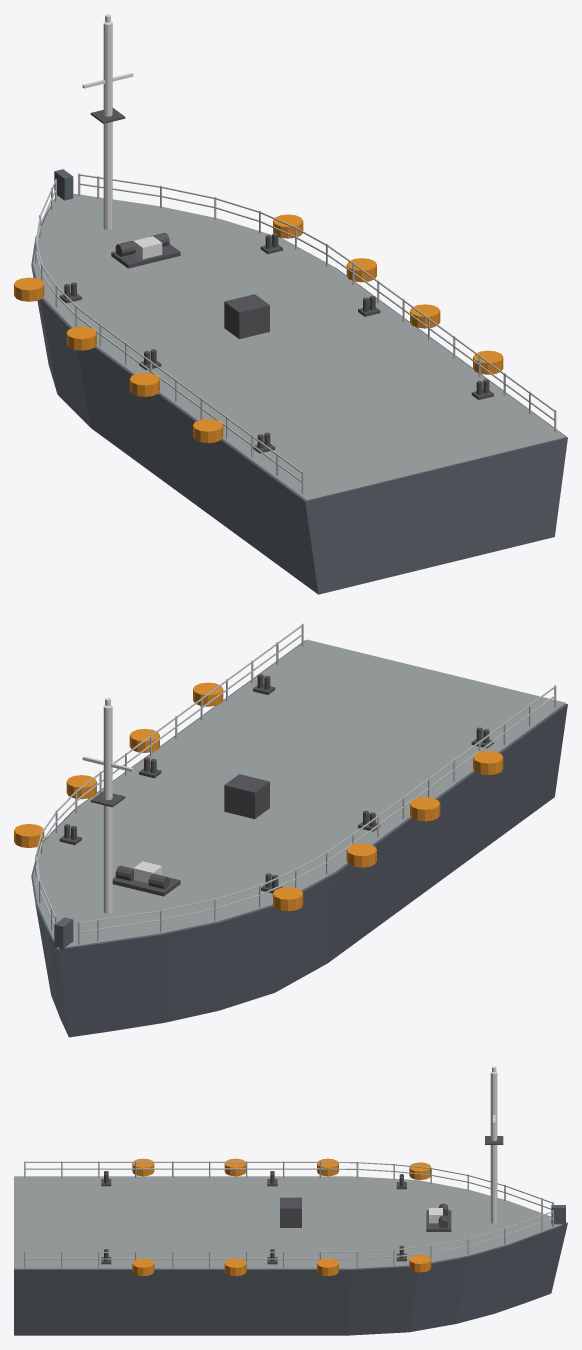
File: Vessel_Tug.fbx
The picture shows the model from 3 angles, top to bottom: view 1: azimuth 30°, elevation 25°; view 2: azimuth 150°, elevation 25°; view 3: azimuth 270°, elevation 25°; orthographic projection. The views are drawn at different scales.
Visible parts, largest first — view 1: Vessel_Tug; view 2: Vessel_Tug; view 3: Vessel_Tug.
Boxes of the visible parts, x1,y1,x2,y2 form: Vessel_Tug: [14, 14, 567, 594]; Vessel_Tug: [14, 623, 567, 1037]; Vessel_Tug: [14, 1066, 567, 1335].
Bounding box in the file's own units: 14 × 13.52 × 30.
